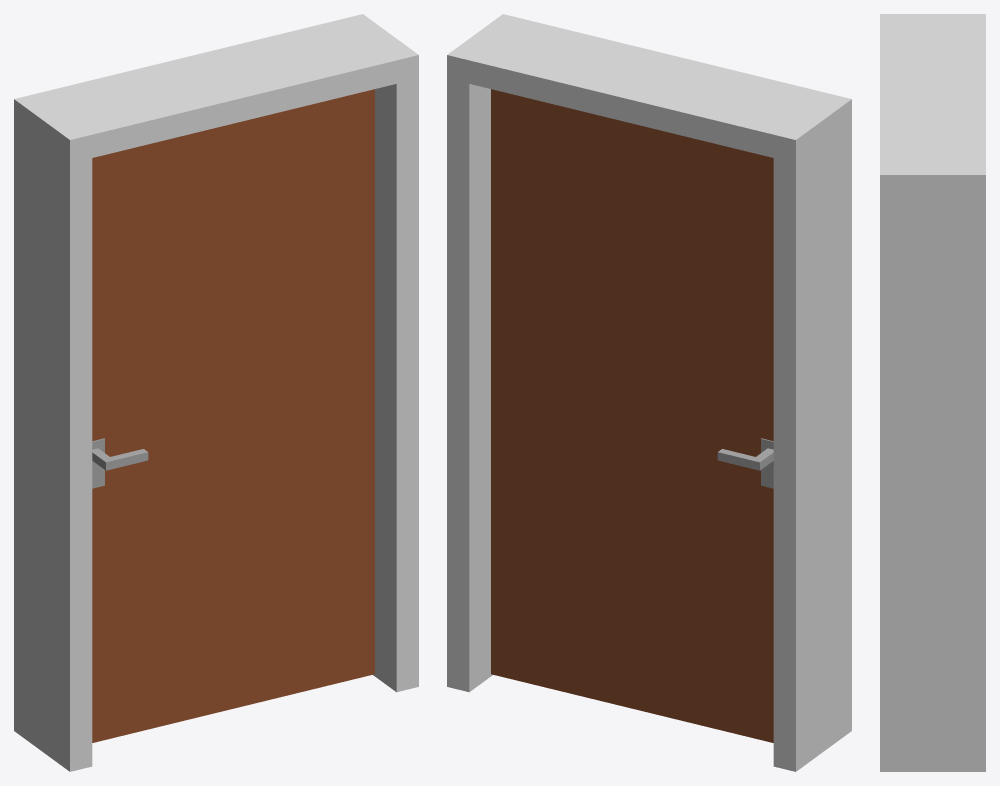
File: door2.fbx
3 views of the same model, side by side, from view 1: azimuth 30°, elevation 25°; view 2: azimuth 150°, elevation 25°; view 3: azimuth 270°, elevation 25° (orthographic). The views are drawn at different scales.
Parts seen in each view (by area): view 1: Door, DoorFrame; view 2: Door, DoorFrame; view 3: DoorFrame.
Boxes of the visible parts, x1=… form: Door: x1=92, y1=89, x2=374, y2=742; DoorFrame: x1=14, y1=14, x2=418, y2=771; Door: x1=491, y1=89, x2=773, y2=742; DoorFrame: x1=447, y1=14, x2=851, y2=771; DoorFrame: x1=880, y1=14, x2=985, y2=771.
Bounding box in the file's own units: 156 × 270 × 43.37.
